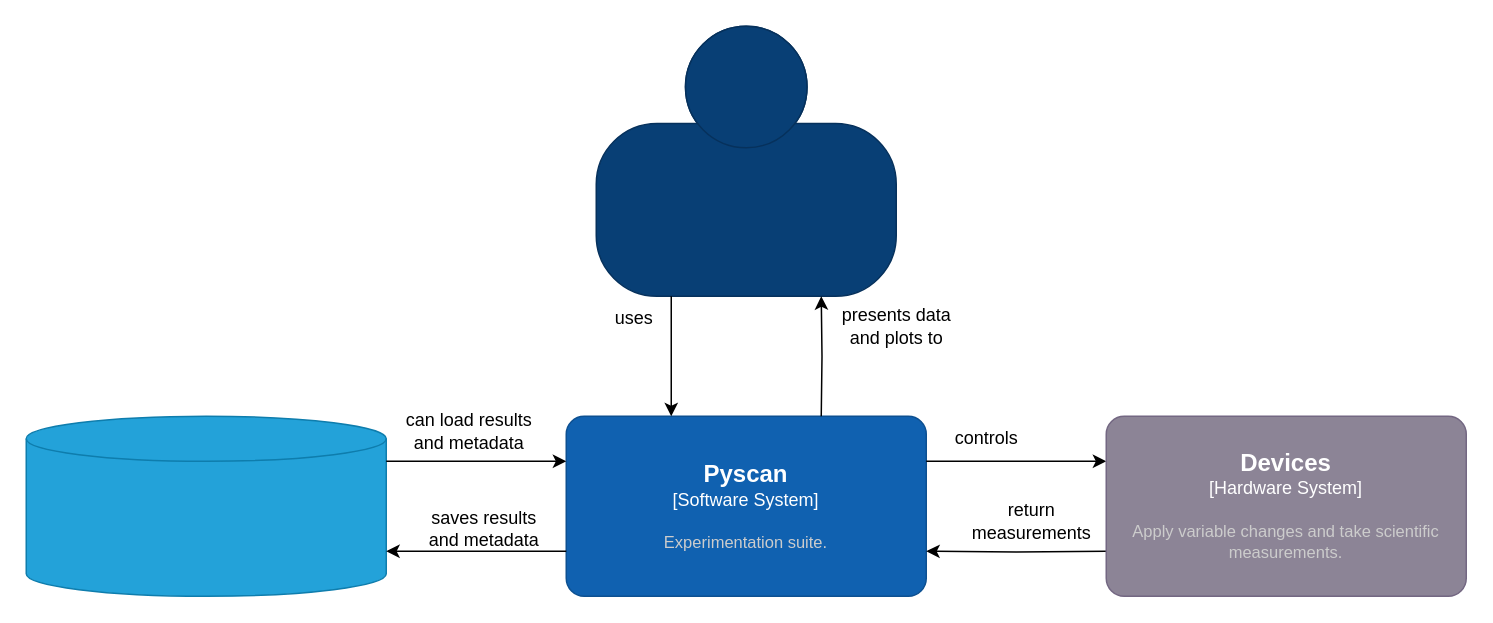
This 1493x623 diagram has some shape labels left out. Each missing label, with the box of its shape:
Data Storage [File type: hdf5] Where the data will be saved.: (25, 415, 386, 596)
User [Person] Experimenter: (595, 25, 896, 296)
